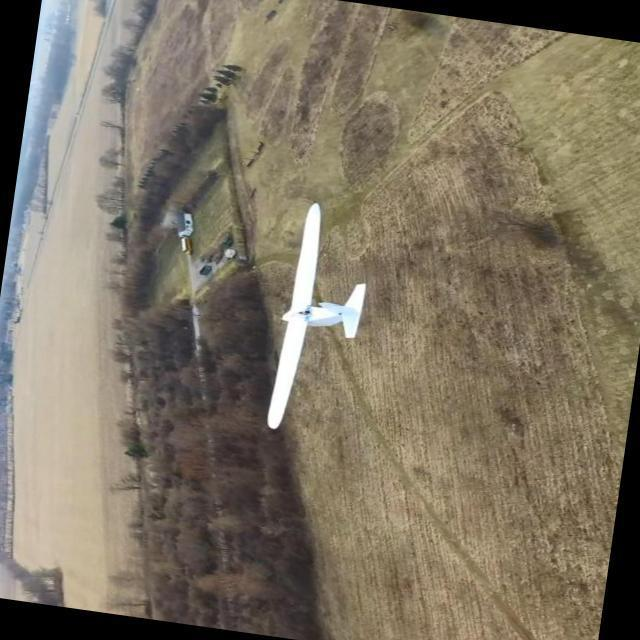iha: (223, 203, 418, 495)
